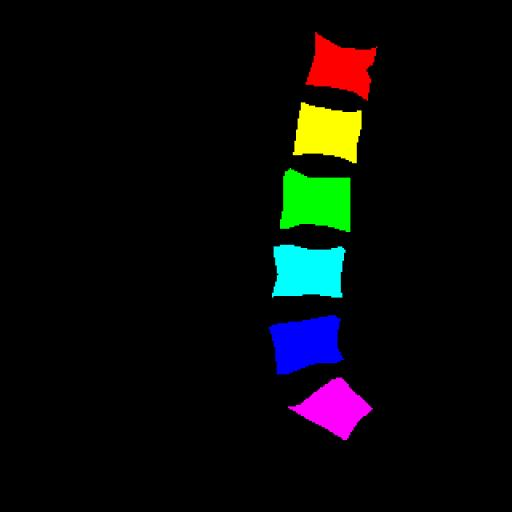L1: (306, 33, 376, 100)
L2: (293, 102, 362, 162)
L3: (282, 169, 350, 232)
L4: (272, 247, 342, 298)
L5: (269, 316, 343, 374)
S1: (288, 378, 372, 440)
